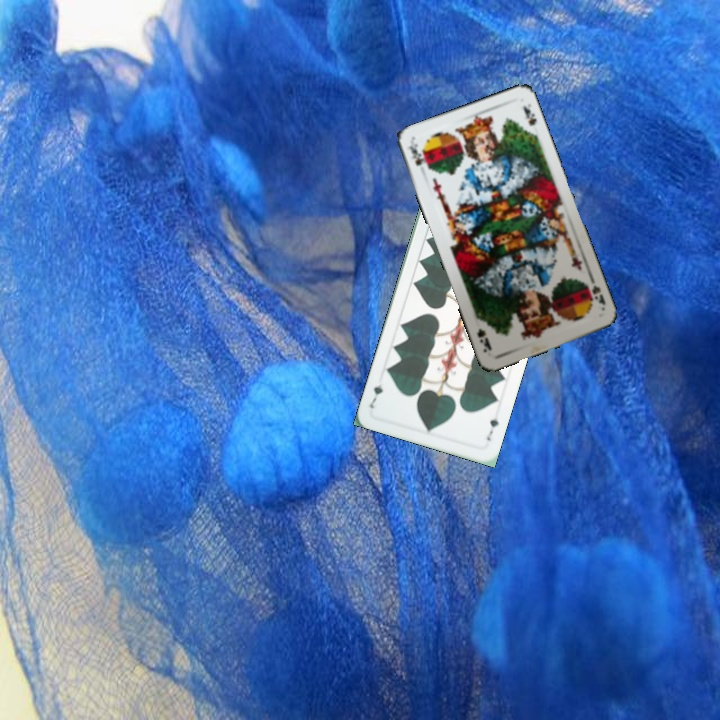G7: (483, 414, 502, 443)
SK: (403, 139, 426, 168), (588, 281, 608, 308)
